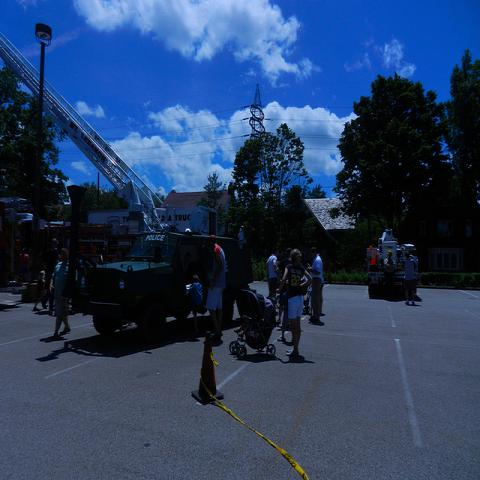truck: (1, 35, 234, 344), (88, 207, 253, 291), (0, 196, 67, 286), (366, 228, 420, 300)
